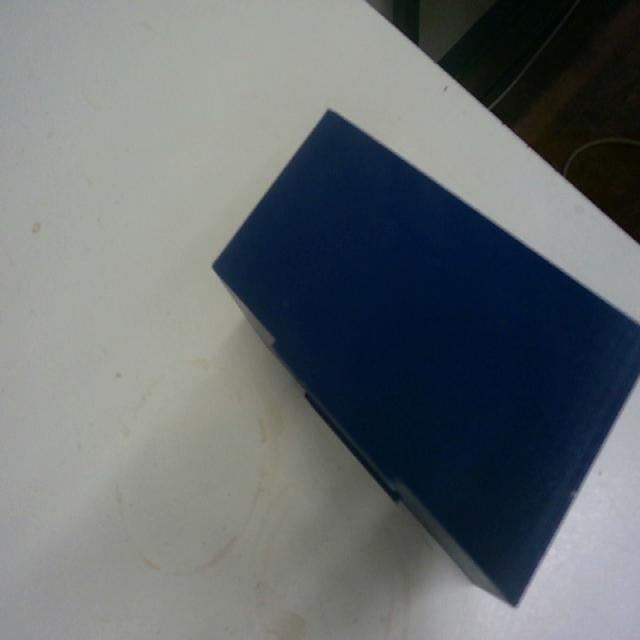Blue Cuboid: (210, 104, 639, 607)
